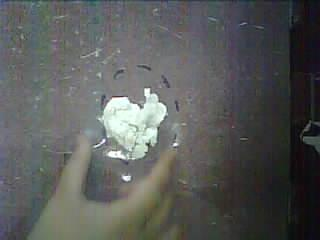paper: (104, 88, 167, 160)
